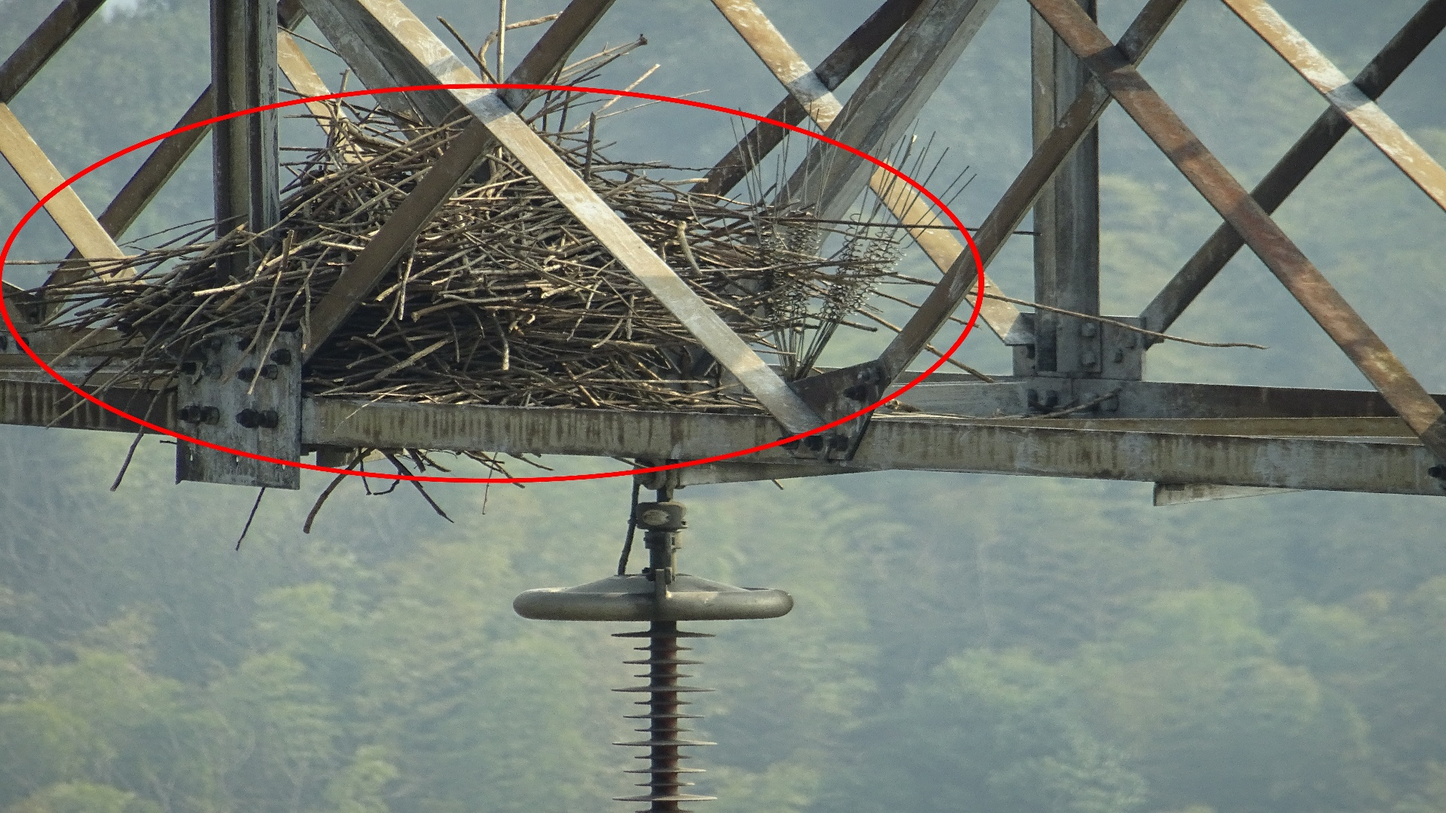insulator: (600, 625, 725, 813)
